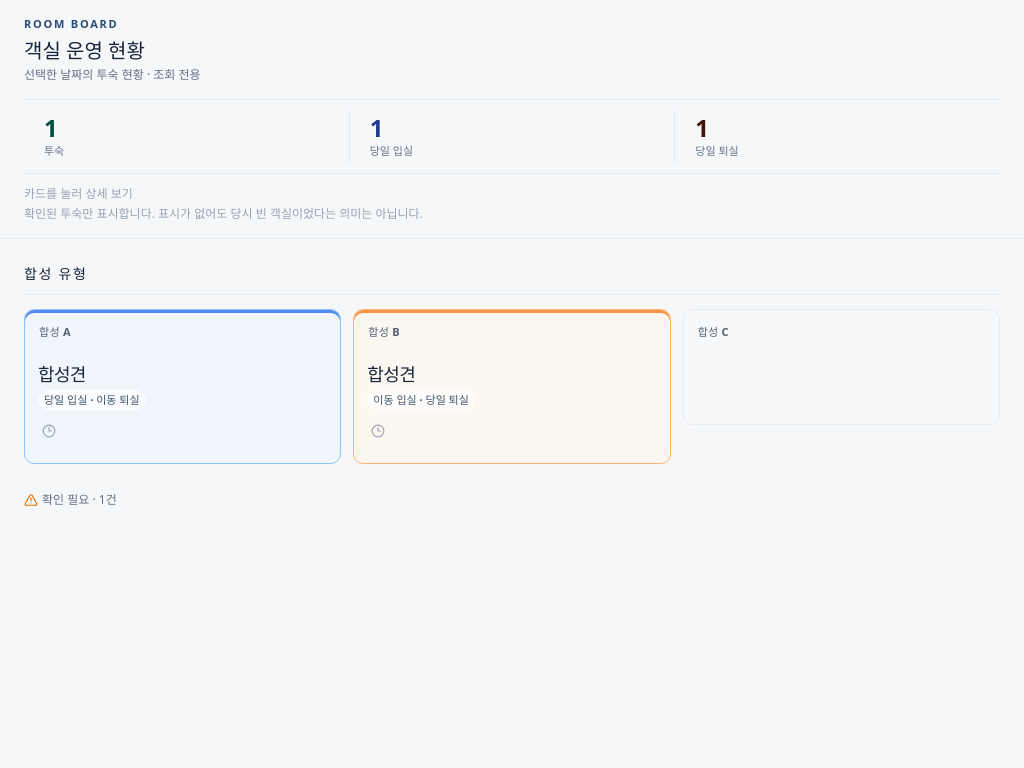
it: 010 actual-use room grid › keeps the normal board hierarchy and hides audit text (mobile=false)
expect the heading "객실 운영 현황" is shown: met, box [24,36,145,64]
expect the text "투숙" is shown: met, box [44,144,64,159]
Click the heading "확인 필요 · 1건".
click(70, 501)  # box [24,492,117,511]
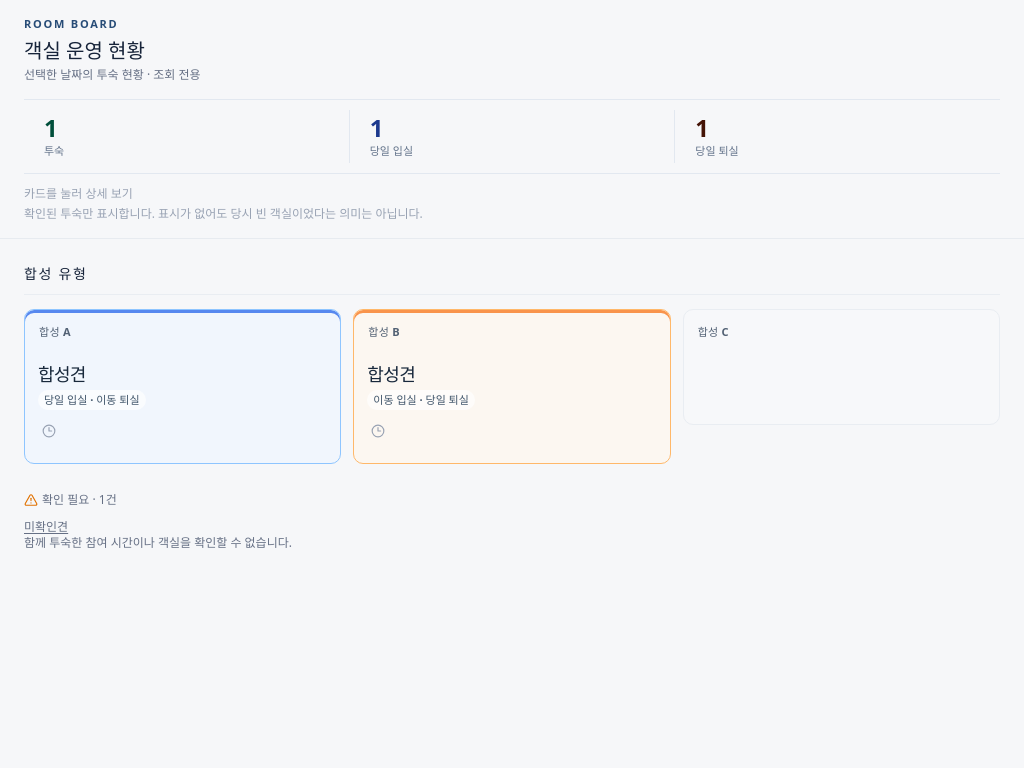
expect the text "함께 투숙한 참여 시간이나 객실을 확인할 수 없습니다." is shown: met, box [24,534,292,551]
